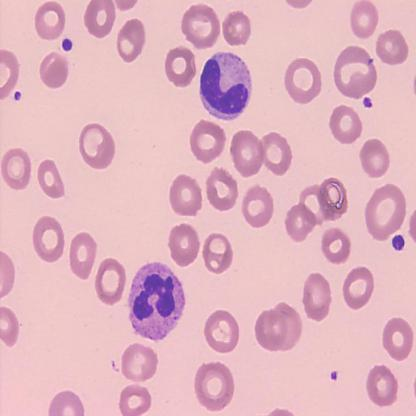Band Neutrophil: (124, 259, 188, 343), (197, 49, 254, 123)
